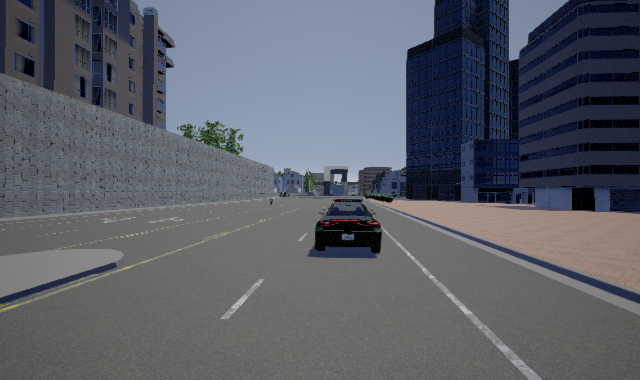vehicle: (315, 199, 382, 253)
